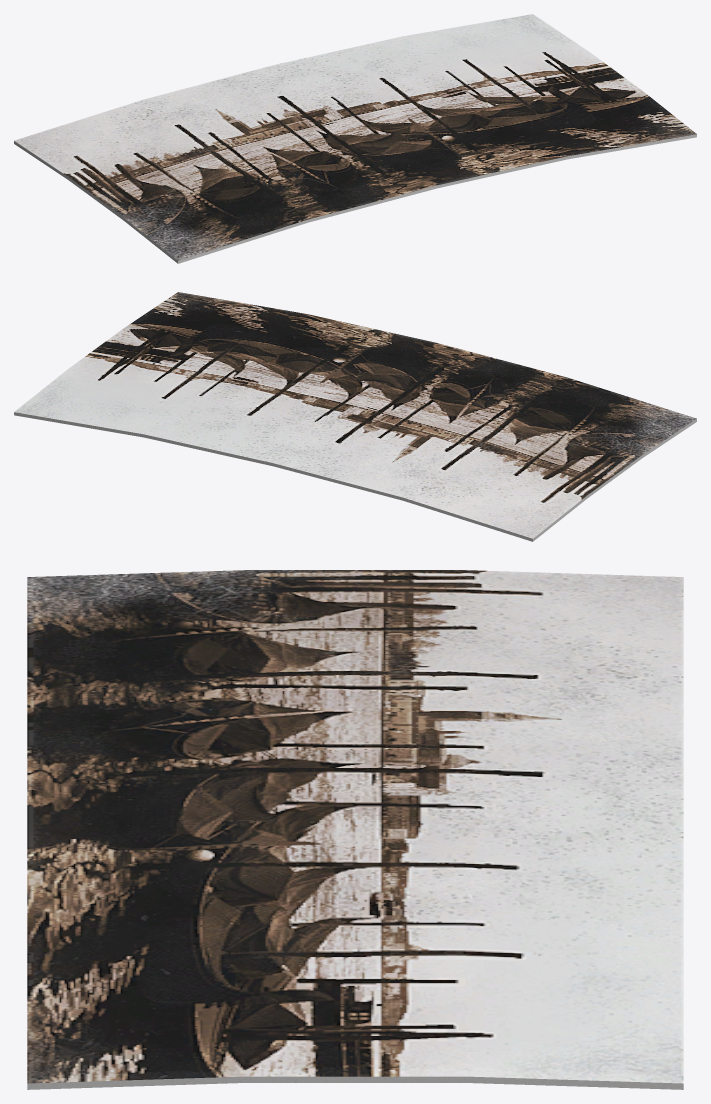
File: 02_05_photograph_world04.dae
3 views of the same model, one above another, from view 1: azimuth 30°, elevation 25°; view 2: azimuth 150°, elevation 25°; view 3: azimuth 270°, elevation 25° (orthographic). The views are drawn at different scales.
Parts seen in each view (by area): view 1: photograph_world04; view 2: photograph_world04; view 3: photograph_world04.
Part boxes in pixels (box(x1,y1,x2,y2)): photograph_world04: box(14, 14, 696, 263); photograph_world04: box(14, 292, 696, 541); photograph_world04: box(27, 570, 683, 1089).
Bounding box in the file's own units: 0.2065 × 0.0072 × 0.1131.
